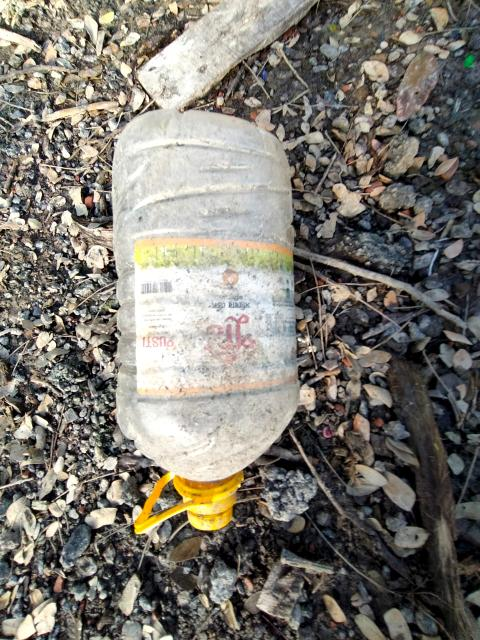bottle: (112, 111, 299, 528)
